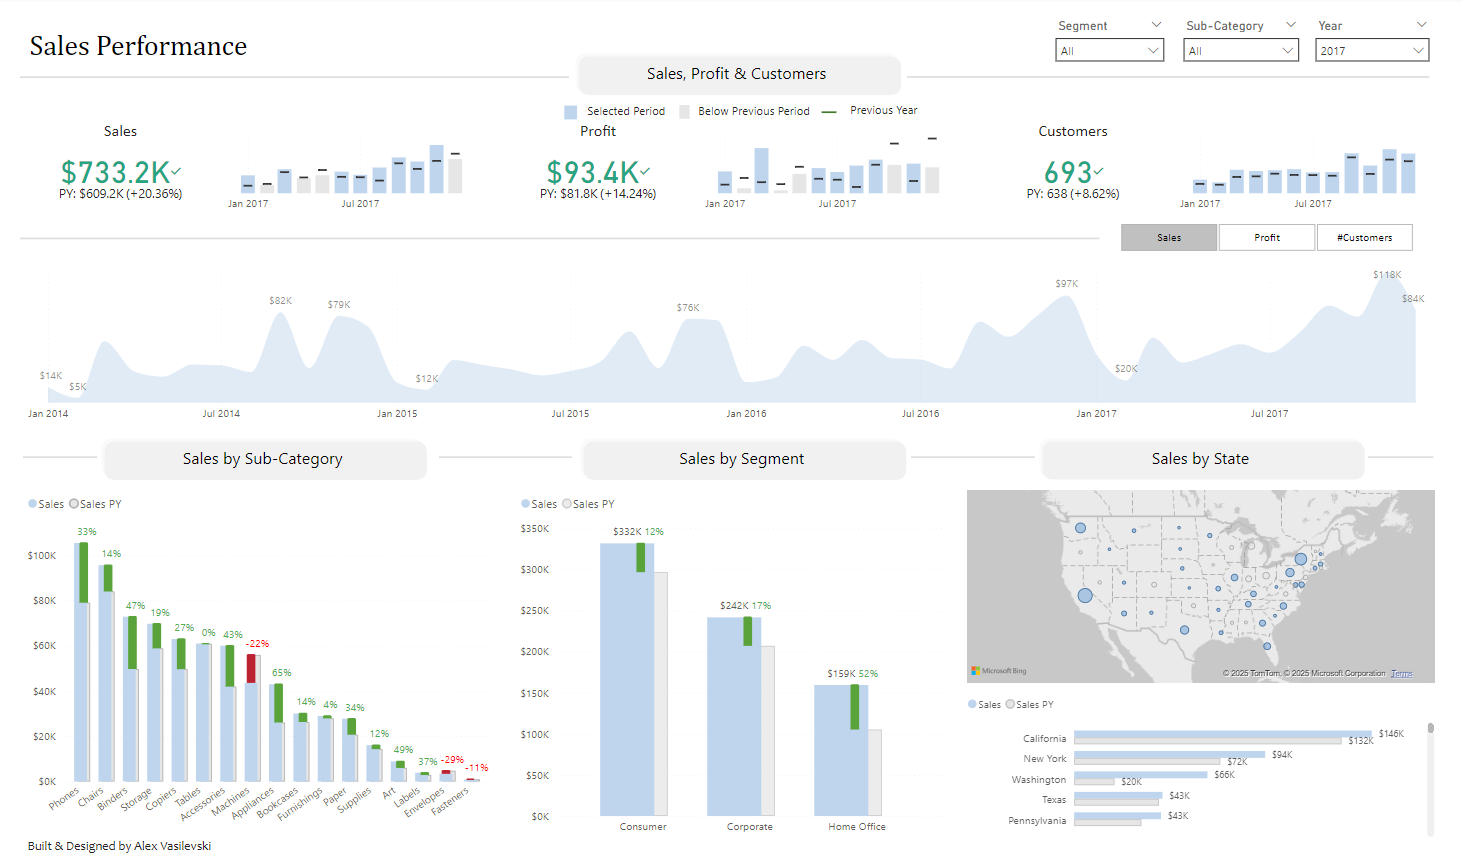

The dashboard page shown, as its layout file describes it:
{"tool":"powerbi","page":{"name":"Executive Summary.","canvas":[1700,1000],"ordinal":6},"visuals":[{"type":"slicer","fields":{"Values":["Calendar.Year"]},"box":[1518.9,20.2,152.4,69.3],"z":0},{"type":"group","id":"g1","title":"Group 4","box":[953.1,117.1,132.2,31.5],"z":0,"group":"g8"},{"type":"textbox","box":[982.7,117.1,101.9,31.5],"z":0,"group":"g1"},{"type":"group","id":"g2","title":"Group 4","box":[678.3,118.5,113.4,30.2],"z":0,"group":"g3"},{"type":"textbox","box":[678.3,118.5,113.3,30.2],"z":0,"group":"g2"},{"type":"textbox","box":[807.2,118.5,148.2,30.2],"z":0,"group":"g4"},{"type":"kpi","title":"Sales","fields":{"Indicator":["Superstore Dataset.Sales."],"Goal":["Superstore Dataset.Sales Previous Year"],"TrendLine":["Calendar.Year"]},"box":[24.4,142.5,235.8,115],"z":0,"group":"g6"},{"type":"group","id":"g3","title":"Group 5","box":[651.9,116,139.8,35.3],"z":1000,"group":"g8"},{"type":"image","box":[651.9,116,26.4,35.3],"z":1000,"group":"g3"},{"type":"shape","box":[953.1,126.1,19.3,14.4],"z":1000,"group":"g1"},{"type":"areaChart","fields":{"Y":["Superstore.Sales."],"Category":["Calendar.Date (bins)"]},"box":[29.2,303,1642.8,198],"z":1000},{"type":"group","id":"g4","title":"Group 6","box":[785.4,118.5,170,30.2],"z":2000,"group":"g8"},{"type":"kpi","title":"Profit","fields":{"TrendLine":["Calendar.Year"],"Indicator":["Superstore Dataset.Profit."],"Goal":["Superstore Dataset.Profit Previous Year"]},"box":[579.4,142.5,234.5,115],"z":2000,"group":"g5"},{"type":"slicer","fields":{"Values":["prmMeasureList.prmMeasureList"]},"box":[1277.3,256.5,388.1,45.2],"z":2000},{"type":"group","id":"g5","title":"Group 1","box":[579.4,142.5,533.2,115.1],"z":3000},{"type":"group","id":"g6","title":"Group 2","box":[24.4,142.5,535.4,114.6],"z":4000},{"type":"lineClusteredColumnComboChart","title":"Consumer","fields":{"Y":["Superstore Dataset.Sales."],"Y2":["Superstore Dataset.Sales Previous Year"],"Category":["Calendar.Date (bins)"]},"box":[260.2,142.5,299.6,115],"z":4000,"group":"g6"},{"type":"lineClusteredColumnComboChart","title":"Consumer","fields":{"Category":["Calendar.Date (bins)"],"Y":["Superstore.Profit."],"Y2":["Superstore.Profit PY"]},"box":[813.9,142.5,299.6,115],"z":5000,"group":"g5"},{"type":"group","id":"g7","title":"Group 3","box":[1130.3,142.5,535.4,114.6],"z":5000},{"type":"shape","box":[115.2,506.4,384.3,55],"z":6000},{"type":"shape","box":[670.4,506.4,384.6,55],"z":7000},{"type":"kpi","title":"Customers","fields":{"TrendLine":["Calendar.Year"],"Indicator":["Superstore.Customers"],"Goal":["Superstore.Customers PY"]},"box":[1130.3,142.5,234.5,115],"z":8000,"group":"g7"},{"type":"shape","box":[1202.9,506.4,384.1,54.5],"z":8000},{"type":"lineClusteredColumnComboChart","title":"Consumer","fields":{"Y":["Superstore.Customers"],"Y2":["Superstore.Customers PY"],"Category":["Calendar.Dates"]},"box":[1364.8,142.5,300.9,115],"z":9000,"group":"g7"},{"type":"map","title":"Sales","fields":{"Category":["Superstore.State"],"Size":["Superstore.Sales."]},"box":[1119.6,566.8,551.6,234.3],"z":9000},{"type":"shape","box":[664.6,60.7,384.6,55],"z":10000},{"type":"shape","box":[26.4,16.4,321.2,78.1],"z":11000},{"type":"shape","box":[25.5,86.6,636.7,12],"z":12000},{"type":"shape","box":[1054.2,86.9,605.8,11.3],"z":13000},{"type":"shape","box":[1059.3,527.7,143.5,12],"z":14000},{"type":"shape","box":[511.7,527.7,154.2,12],"z":15000},{"type":"shape","box":[1589.7,527.7,75.8,12],"z":16000},{"type":"shape","box":[29.2,527.7,86.4,12],"z":17000},{"type":"clusteredColumnChart","fields":{"Category":["Superstore.Sub-Category"],"Y":["Superstore.Sales.","Superstore.Sales PY","Superstore.Max value"]},"box":[29,566.8,550.4,413.1],"z":18000},{"type":"clusteredColumnChart","fields":{"Y":["Superstore.Sales.","Superstore.Sales PY","Superstore.Max value"],"Category":["Superstore.Segment"]},"box":[600.8,566.8,500,413.1],"z":19000},{"type":"slicer","fields":{"Values":["Superstore.Sub-Category"]},"box":[1365.2,20.2,153.7,69.3],"z":20000},{"type":"slicer","fields":{"Values":["Superstore.Segment"]},"box":[1216.6,20.2,146.1,69.3],"z":21000},{"type":"clusteredBarChart","title":"Sales","fields":{"Category":["Superstore.State"],"Y":["Superstore.Sales.","Superstore.Sales PY"]},"box":[1119.6,801,551.6,178.8],"z":22000},{"type":"shape","box":[25.2,273.3,1251.9,12.6],"z":23000},{"type":"image","box":[785.4,118.5,21.8,30.2],"z":23004,"group":"g4"},{"type":"textbox","box":[29,971,343.8,29],"z":24000},{"type":"group","id":"g8","title":"Group 7","box":[651.9,116,433.6,36.6],"z":25000}]}

Visuals, with their boxes in screenshot pixels (x1, y1, x2, y2), scaled from the page's 1700x1000 canvas onto the 1462x857 screenshot:
slicer - Calendar.Year: BBox(1306, 17, 1437, 77)
"Group 4" group: BBox(820, 100, 933, 127)
textbox: BBox(845, 100, 933, 127)
"Group 4" group: BBox(583, 102, 681, 127)
textbox: BBox(583, 102, 681, 127)
textbox: BBox(694, 102, 822, 127)
"Sales" kpi: BBox(21, 122, 224, 221)
"Group 5" group: BBox(561, 99, 681, 130)
image: BBox(561, 99, 583, 130)
shape: BBox(820, 108, 836, 120)
areaChart - Superstore.Sales. x Calendar.Date (bins): BBox(25, 260, 1438, 429)
"Group 6" group: BBox(675, 102, 822, 127)
"Profit" kpi: BBox(498, 122, 700, 221)
slicer - prmMeasureList.prmMeasureList: BBox(1098, 220, 1432, 259)
"Group 1" group: BBox(498, 122, 957, 221)
"Group 2" group: BBox(21, 122, 481, 220)
"Consumer" lineClusteredColumnComboChart: BBox(224, 122, 481, 221)
"Consumer" lineClusteredColumnComboChart: BBox(700, 122, 958, 221)
"Group 3" group: BBox(972, 122, 1433, 220)
shape: BBox(99, 434, 430, 481)
shape: BBox(577, 434, 907, 481)
"Customers" kpi: BBox(972, 122, 1174, 221)
shape: BBox(1034, 434, 1365, 481)
"Consumer" lineClusteredColumnComboChart: BBox(1174, 122, 1433, 221)
"Sales" map: BBox(963, 486, 1437, 687)
shape: BBox(572, 52, 902, 99)
shape: BBox(23, 14, 299, 81)
shape: BBox(22, 74, 569, 85)
shape: BBox(907, 74, 1428, 84)
shape: BBox(911, 452, 1034, 463)
shape: BBox(440, 452, 573, 463)
shape: BBox(1367, 452, 1432, 463)
shape: BBox(25, 452, 99, 463)
clusteredColumnChart - Superstore.Sub-Category x Superstore.Sales.: BBox(25, 486, 498, 840)
clusteredColumnChart - Superstore.Sales. x Superstore.Sales PY: BBox(517, 486, 947, 840)
slicer - Superstore.Sub-Category: BBox(1174, 17, 1306, 77)
slicer - Superstore.Segment: BBox(1046, 17, 1172, 77)
"Sales" clusteredBarChart: BBox(963, 686, 1437, 840)
shape: BBox(22, 234, 1098, 245)
image: BBox(675, 102, 694, 127)
textbox: BBox(25, 832, 321, 856)
"Group 7" group: BBox(561, 99, 934, 131)
